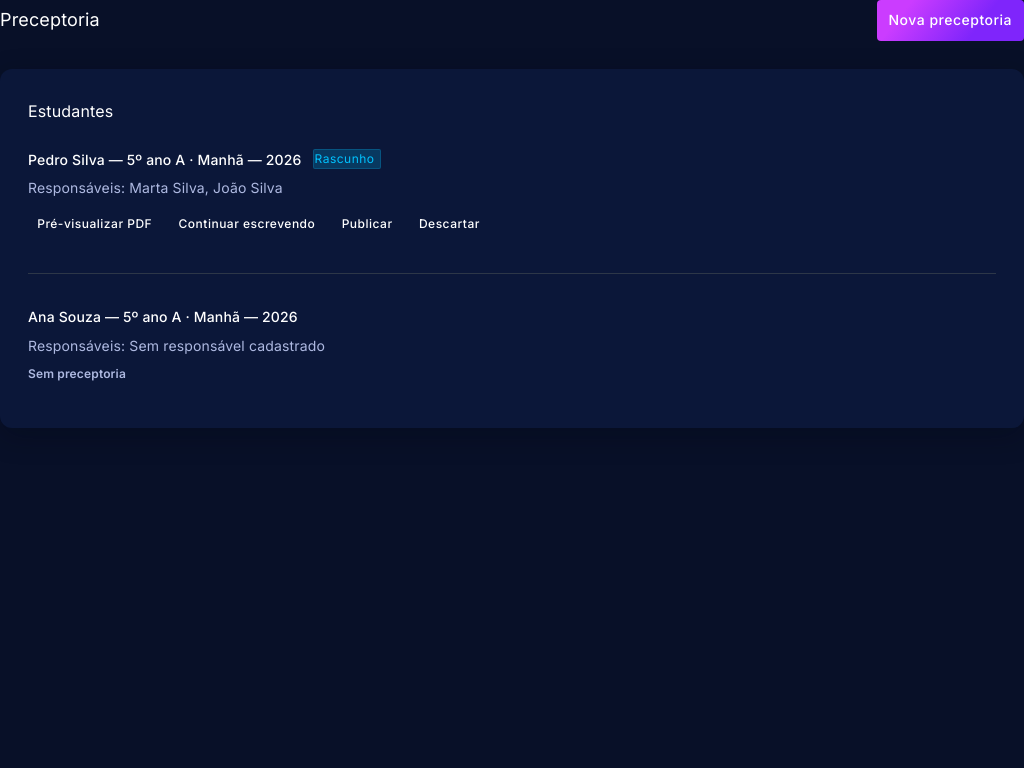
Scenario: Preceptorship, as the teacher writes it › opens the new-report dialog from the page header button
The image size is (1024, 768).
Click the button "Nova preceptoria" at (950, 20), box [876,0,1023,40]
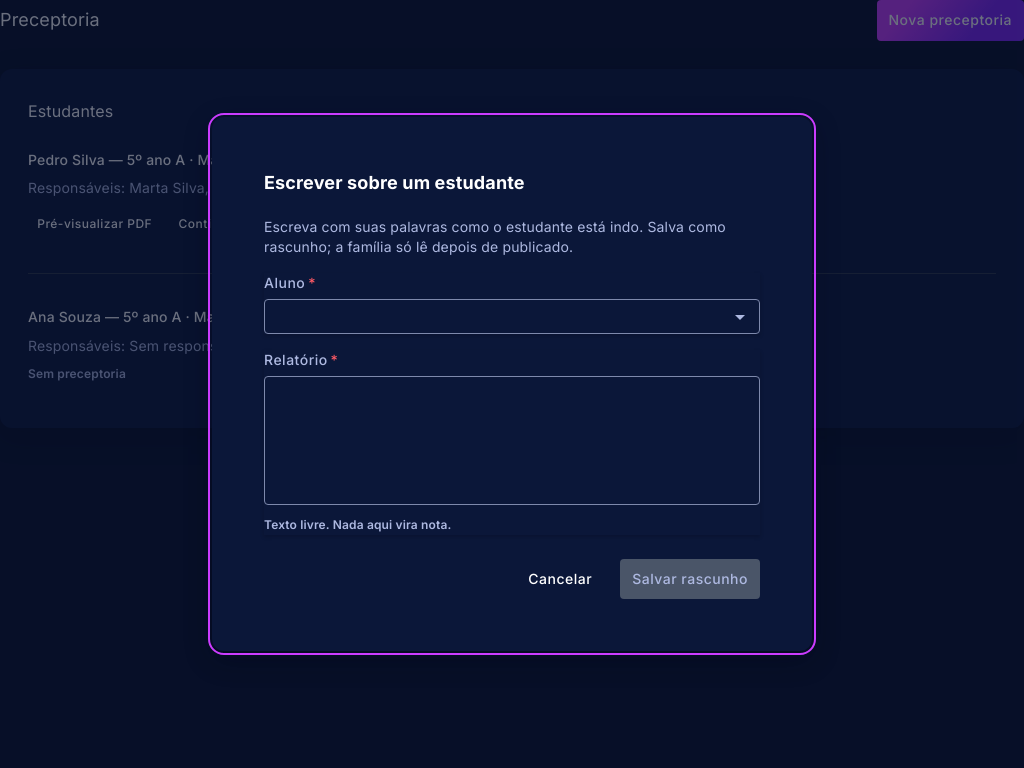
Expected: the heading "Escrever sobre um estudante" is shown, [264,172,525,193]
